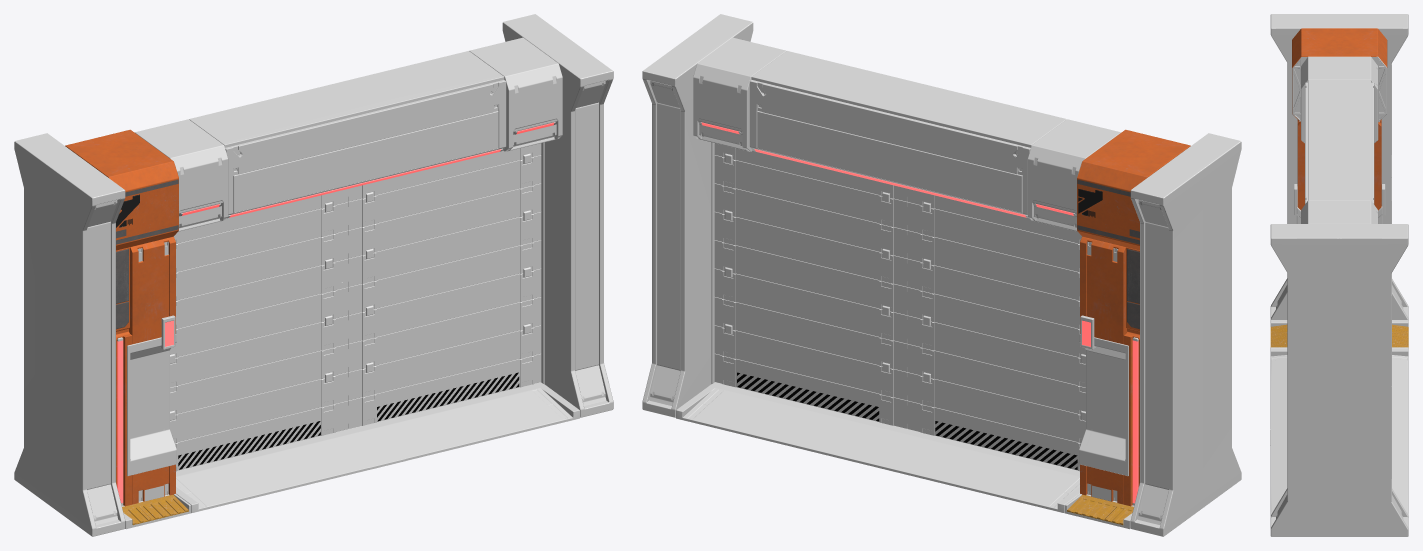
The model's file is big_level_door 1.fbx.
3 renders of one model, left to right at view 1: azimuth 30°, elevation 25°; view 2: azimuth 150°, elevation 25°; view 3: azimuth 270°, elevation 25°, orthographic. The views are drawn at different scales.
Parts seen in each view (by area): view 1: Cube.160, Cube.161, Cube.148, Cube.157; view 2: Cube.160, Cube.161, Cube.155, Cube.159; view 3: Cube.160.
Boxes of the visible parts, bbox=[...] form: Cube.160: bbox=[14, 14, 613, 536]; Cube.161: bbox=[170, 143, 541, 471]; Cube.148: bbox=[117, 340, 123, 503]; Cube.157: bbox=[229, 149, 501, 217]; Cube.160: bbox=[642, 14, 1241, 536]; Cube.161: bbox=[714, 143, 1085, 471]; Cube.155: bbox=[1132, 340, 1138, 503]; Cube.159: bbox=[754, 149, 1026, 217]; Cube.160: bbox=[1270, 14, 1408, 536].
Bounding box in the file's own units: 809 × 503 × 210.
